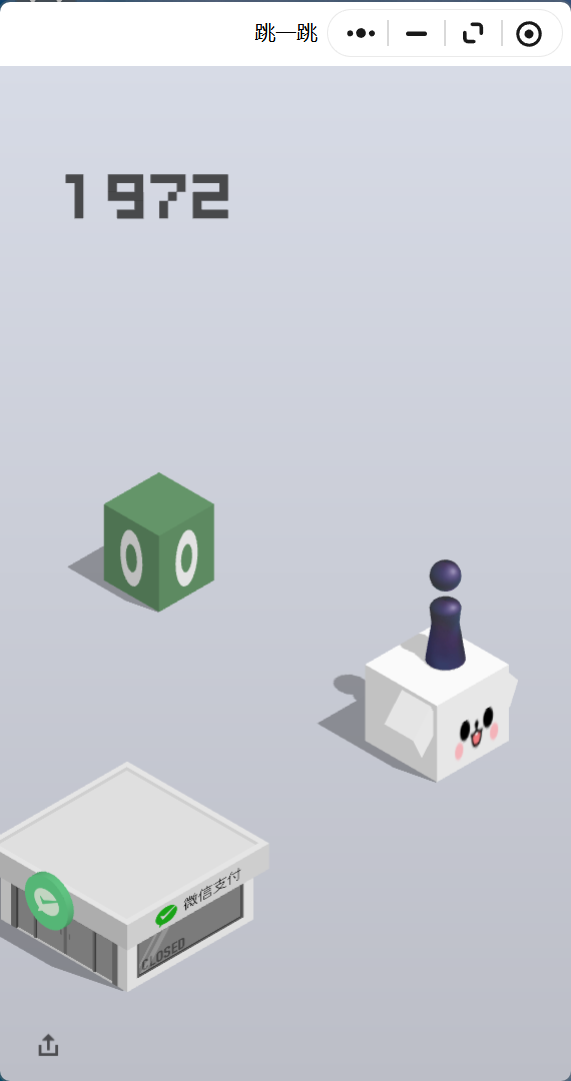piece: (104, 472, 214, 535), (430, 559, 461, 665)
